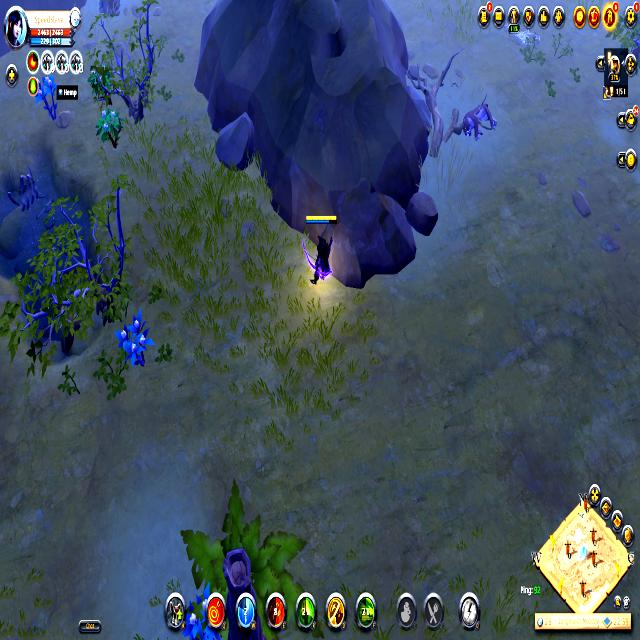hide: (180, 580, 218, 640), (118, 308, 152, 371), (32, 71, 64, 127), (96, 104, 123, 151)
mob: (458, 93, 500, 147)
red: (302, 211, 340, 287)
